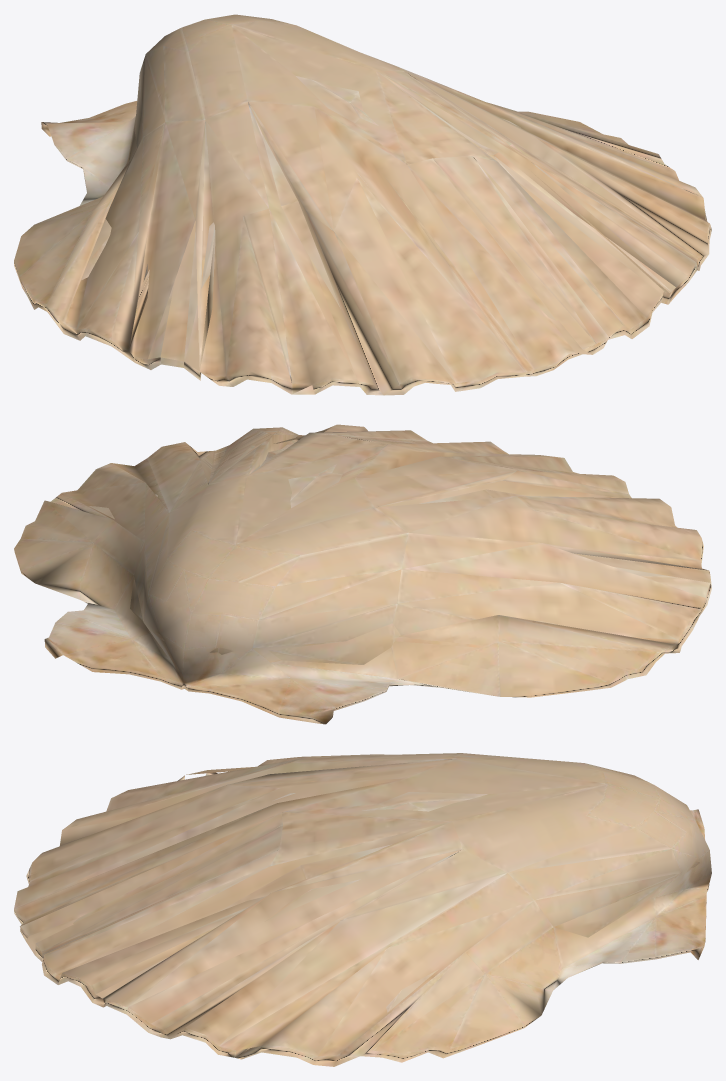
The model's file is shell_fan.glb.
3 renders of one model, top to bottom at view 1: azimuth 30°, elevation 25°; view 2: azimuth 150°, elevation 25°; view 3: azimuth 270°, elevation 25°, orthographic.
Parts seen in each view (by area): view 1: geometry_0; view 2: geometry_0; view 3: geometry_0.
Part boxes in pixels (x1,y1,x2,y2): geometry_0: (14, 14, 711, 395); geometry_0: (14, 424, 711, 724); geometry_0: (14, 753, 711, 1066).
Bounding box in the file's own units: 0.26 × 0.0559 × 0.2568.
1 material, 1 textured.
